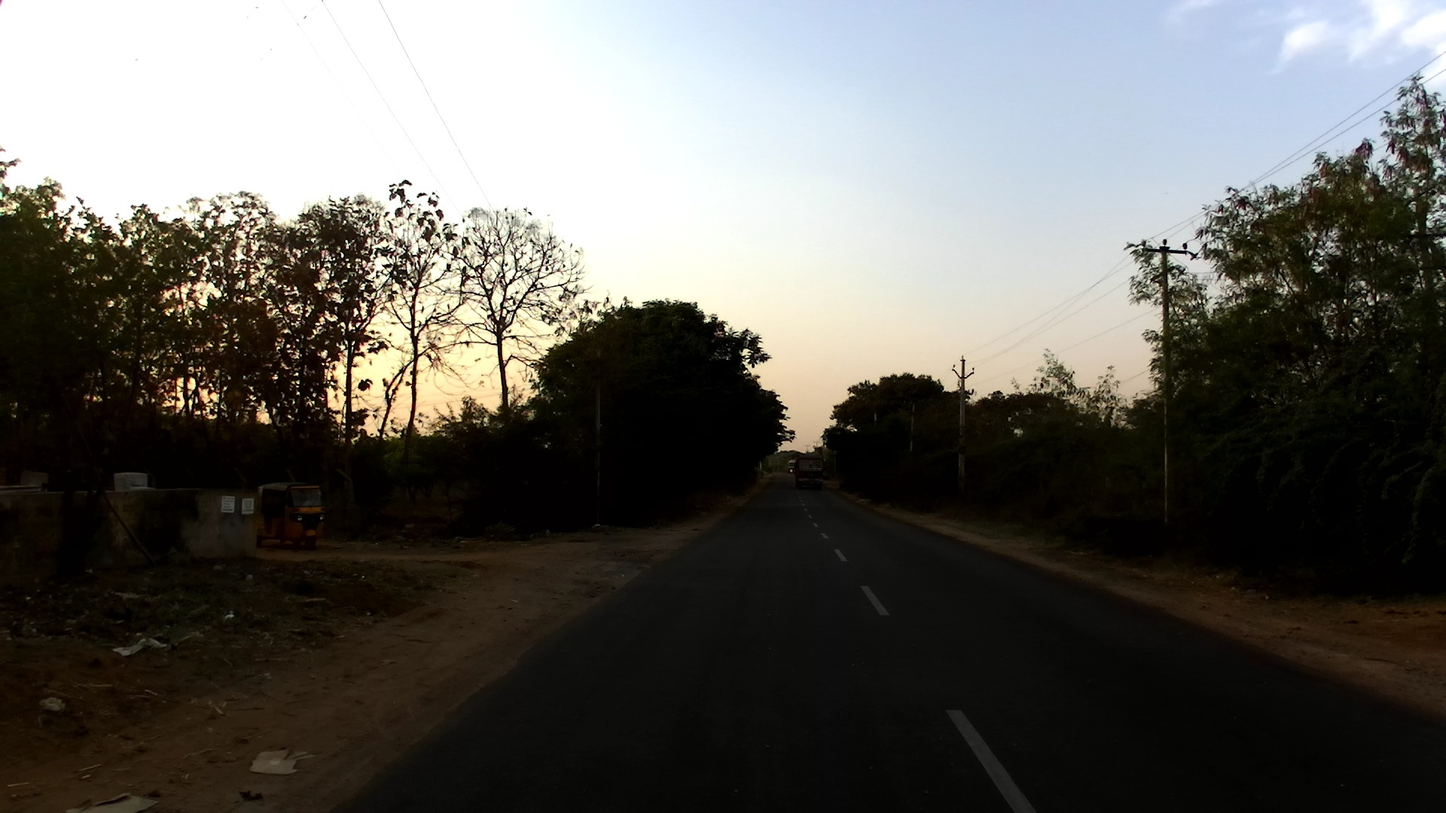autorickshaw: (254, 480, 325, 553)
bus: (788, 457, 799, 476)
truck: (792, 452, 828, 489)
